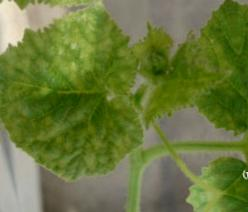Tomato leaf mosaic virus: (0, 3, 151, 189)
